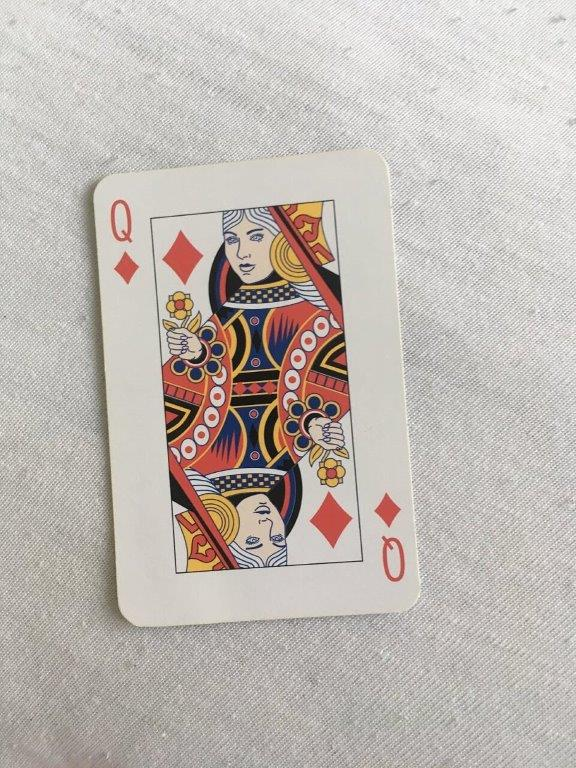QD: (90, 144, 425, 630)
